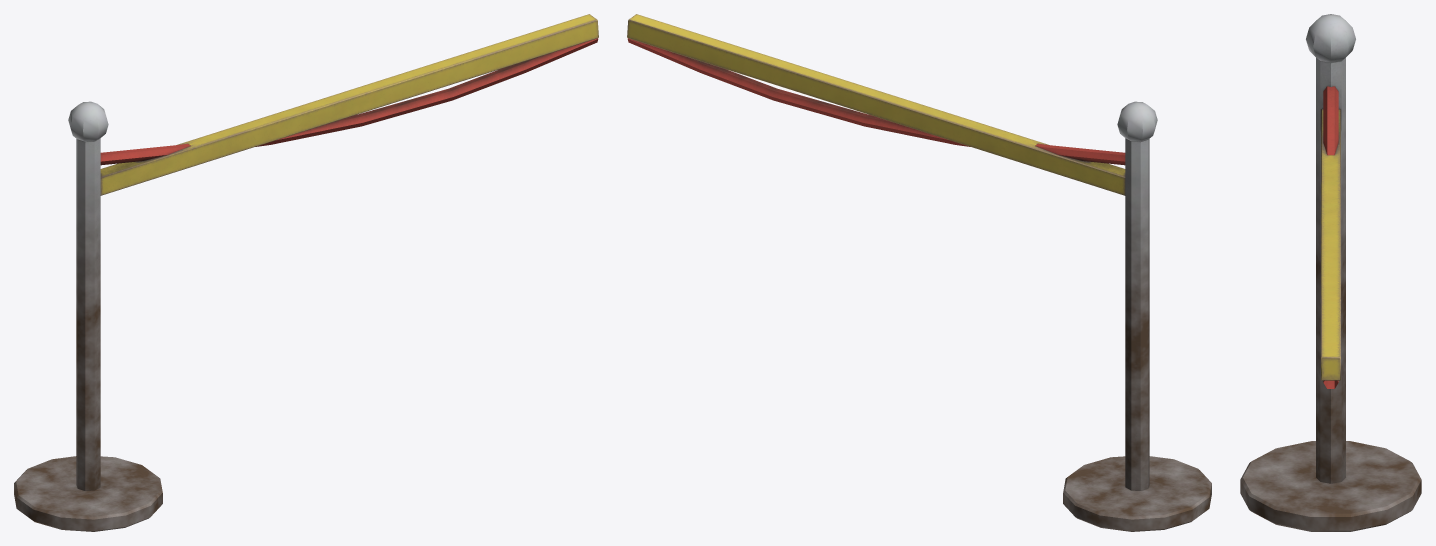
The model's file is g67_pz_queue_stand.glb.
3 views of the same model, side by side, from view 1: azimuth 30°, elevation 25°; view 2: azimuth 150°, elevation 25°; view 3: azimuth 270°, elevation 25° (orthographic). The views are drawn at different scales.
Parts seen in each view (by area): view 1: g67_pz_queue_stand; view 2: g67_pz_queue_stand; view 3: g67_pz_queue_stand.
Part boxes in pixels (x1,y1,x2,y2): g67_pz_queue_stand: (14,14,598,531); g67_pz_queue_stand: (627,14,1211,531); g67_pz_queue_stand: (1240,14,1421,531).
Bounding box in the file's own units: 1.58 × 1.05 × 0.36.
1 material, 1 textured.
